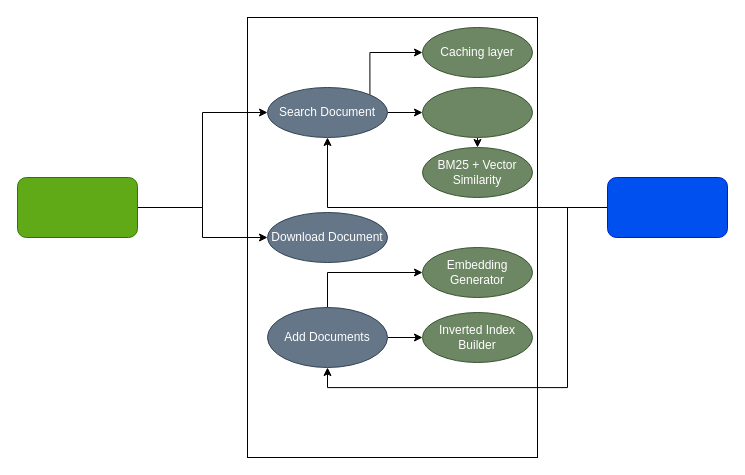
This 745x475 diagram has some shape labels left out. The centre of each missing label's shape, as x and y in pixels:
ADMIN: (x=667, y=207)
Shards: (x=477, y=112)
USER: (x=77, y=207)
